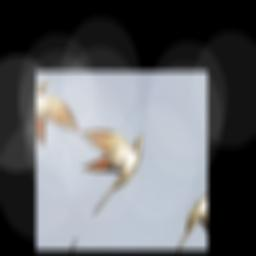Cuckoo: (44, 106, 155, 221)
